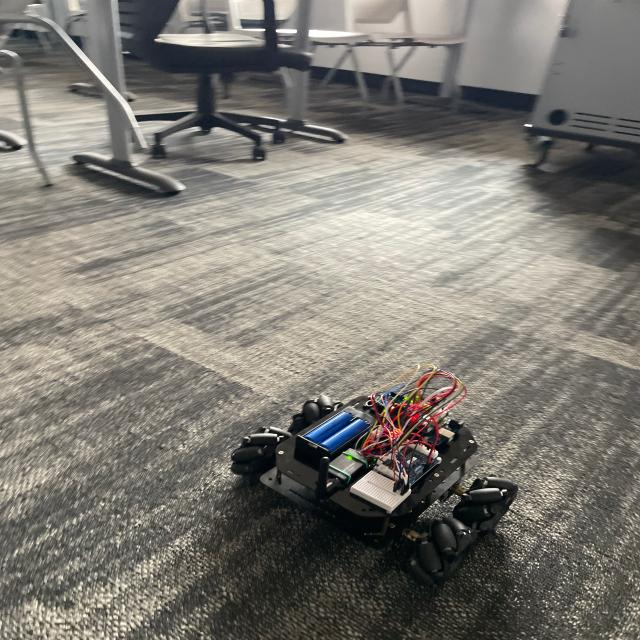ArduinoCar: (220, 360, 535, 590)
